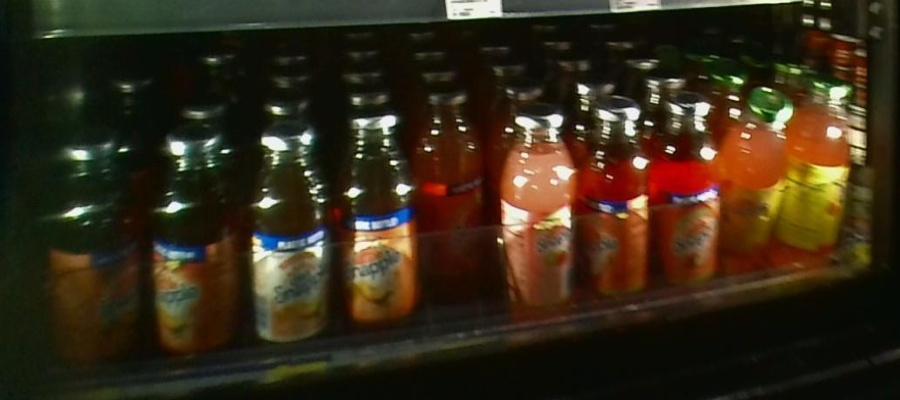bottle: (44, 128, 144, 389), (148, 113, 240, 372), (242, 114, 335, 363), (335, 100, 420, 343), (499, 102, 579, 318), (583, 86, 650, 315), (421, 84, 491, 293), (654, 85, 720, 300), (724, 86, 796, 276), (799, 72, 857, 272)
